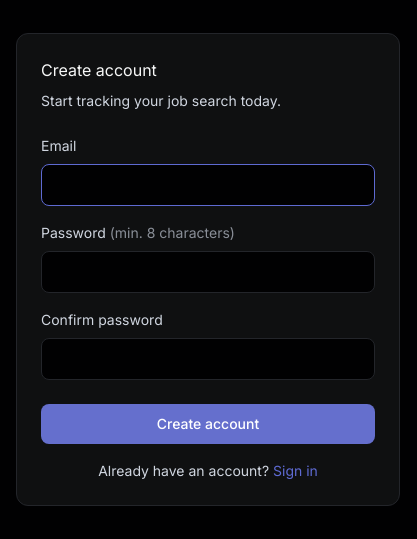
Test: RegisterForm › shows the server error message on failure
This screenshot has width=417, height=539.
Type "user@example.com" into the field labelled "Email" at (208, 184), box [41,164,375,206]
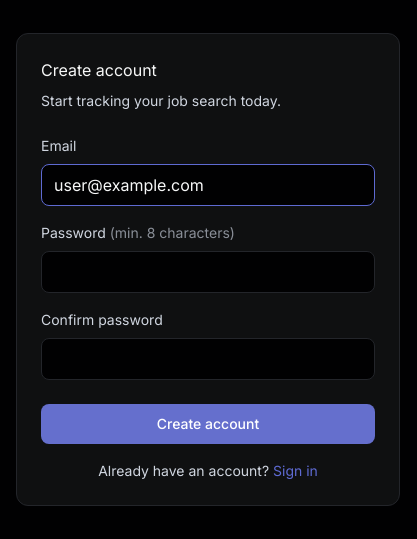
Type "a-good-password" into the password field labelled "Password (min. 8 characters)" at (208, 272), box [41,250,375,292]
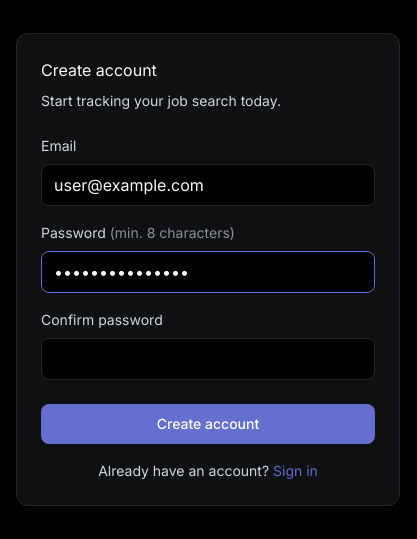
Type "a-good-password" into the password field labelled "Confirm password" at (208, 358), box [41,338,375,380]
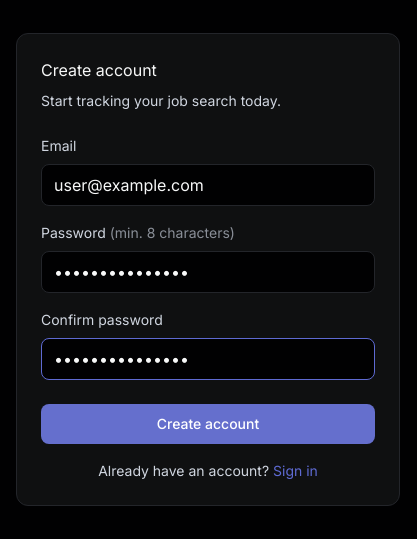
Click the button "Create account" at (208, 424), box [41,404,375,444]
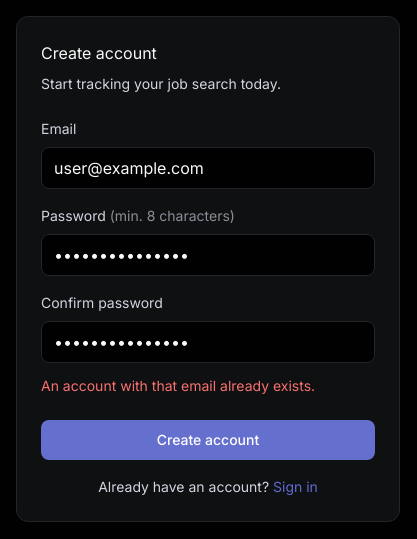
Result: the text "An account with that email already exists." is shown at [41,377,315,394]
